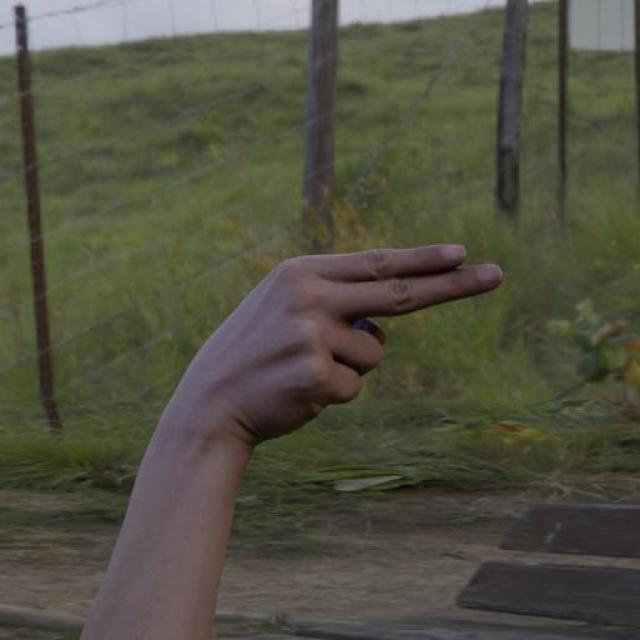H: (146, 239, 508, 447)
